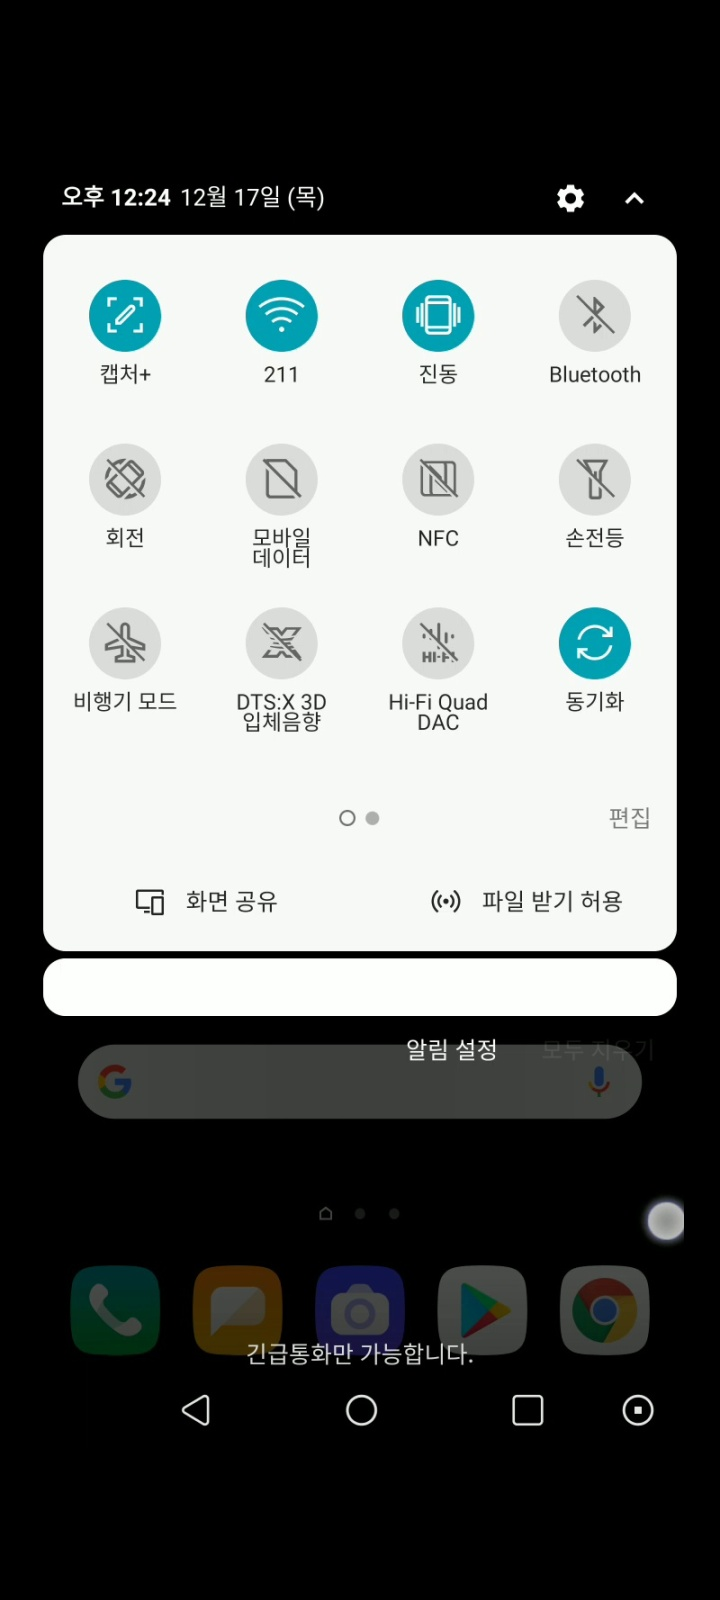Cursor: (639, 1198, 684, 1243)
